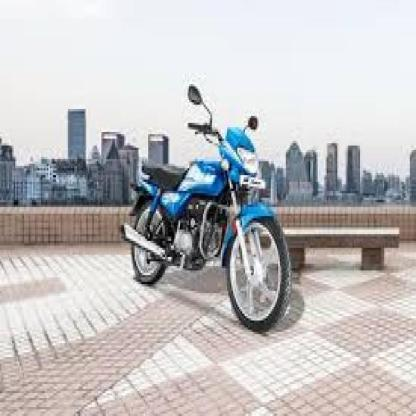bike: (121, 125, 292, 334)
